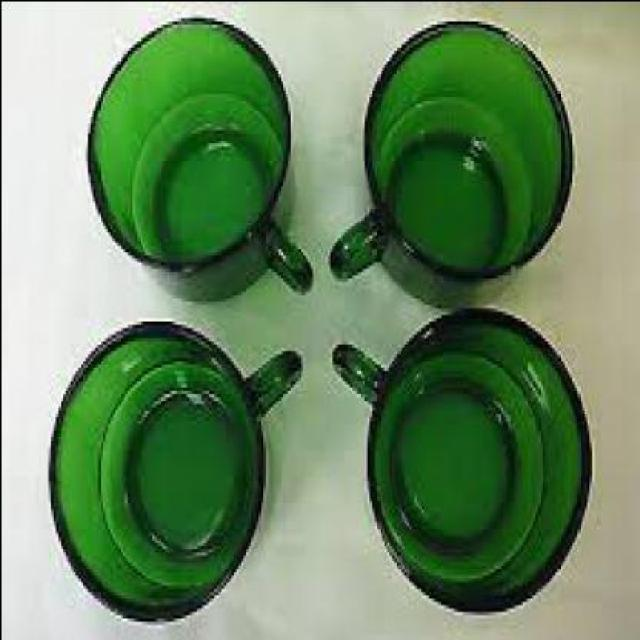GLASS: (334, 303, 592, 608), (49, 317, 305, 614), (331, 13, 574, 304), (89, 13, 316, 298)
